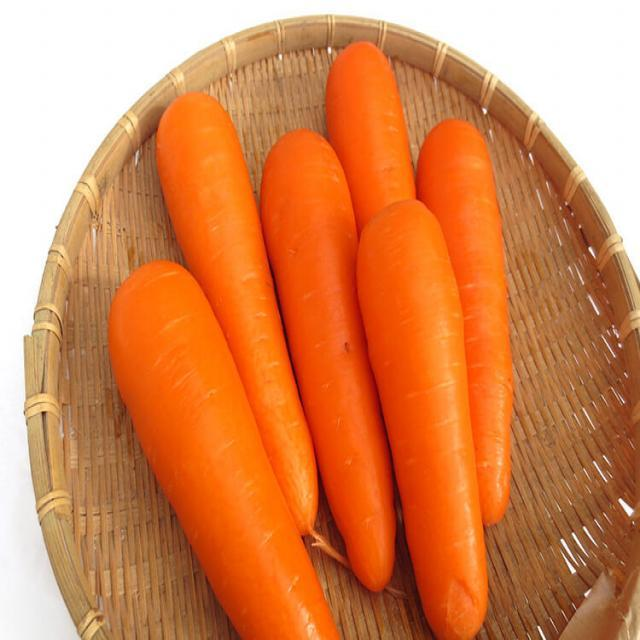carrot: (111, 261, 343, 640), (159, 86, 327, 541), (257, 125, 392, 590), (350, 199, 488, 640), (417, 114, 515, 539)
